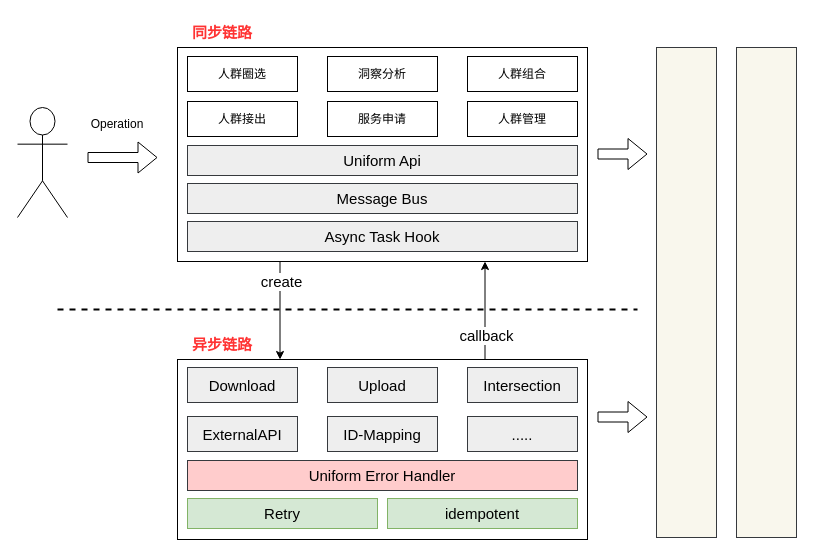
Some shapes in this 814 by 557 pixel diagram are drawn without their labels. Each missing label, with the box of its shape:
Actor: (16, 106, 68, 218)
metrics: (656, 46, 716, 538)
zhiyan logs: (736, 46, 796, 538)
